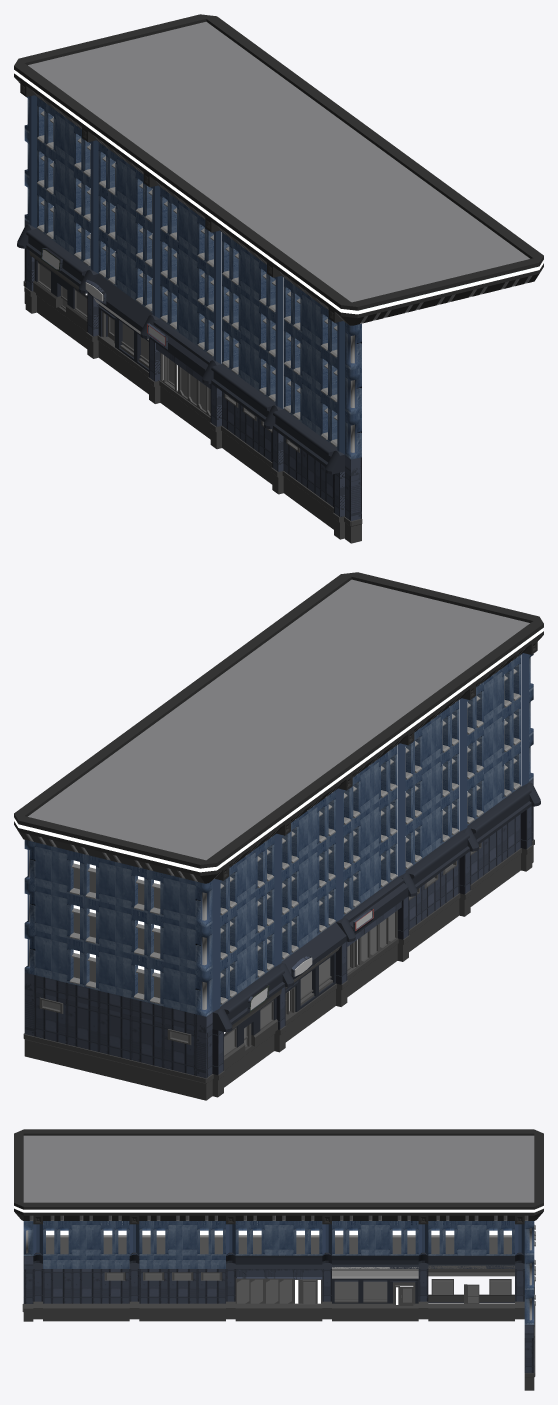
The model's file is BLOCK4.1.fbx.
3 views of the same model, one above another, from view 1: azimuth 30°, elevation 25°; view 2: azimuth 150°, elevation 25°; view 3: azimuth 270°, elevation 25° (orthographic). The views are drawn at different scales.
Visible parts, largest first — view 1: Plane.302, Plane.289, Plane.363, Plane.286, Plane.551, Plane.549, Plane.550, Plane.547, Plane.548, Plane.406, Plane.518, Plane.315 (+10 smaller); view 2: Plane.302, Plane.289, Plane.363, Plane.286, Plane.418, Plane.414, Plane.415, Plane.420, Plane.422, Plane.316, Plane.523, Plane.521 (+20 smaller); view 3: Plane.302, Plane.363, Plane.304, Plane.275, Plane.303, Plane.320, Plane.273, Plane.343, Plane.388, Plane.389, Plane.295, Plane.298 (+62 smaller).
Part boxes in pixels (x1,y1,x2,y2): Plane.302: (28, 21, 529, 302); Plane.289: (24, 130, 361, 414); Plane.363: (24, 175, 361, 459); Plane.286: (24, 95, 361, 370); Plane.551: (491, 261, 528, 291); Plane.549: (427, 276, 464, 307); Plane.550: (459, 268, 496, 299); Plane.547: (363, 292, 400, 322); Plane.548: (395, 284, 432, 315); Plane.406: (345, 472, 361, 521); Plane.518: (334, 298, 368, 325); Plane.315: (29, 250, 52, 304); Plane.302: (28, 579, 529, 860); Plane.289: (24, 689, 533, 971); Plane.363: (24, 734, 533, 1016); Plane.286: (24, 653, 533, 927); Plane.418: (99, 1007, 131, 1059); Plane.414: (131, 1015, 163, 1067); Plane.415: (163, 1023, 195, 1075); Plane.420: (35, 992, 67, 1044); Plane.422: (67, 1000, 99, 1051); Plane.316: (195, 1029, 212, 1078); Plane.523: (29, 818, 66, 849); Plane.521: (93, 834, 131, 865); Plane.302: (23, 1135, 534, 1202); Plane.363: (23, 1221, 535, 1324); Plane.304: (389, 1267, 418, 1305); Plane.275: (293, 1269, 322, 1304); Plane.303: (361, 1267, 389, 1303); Plane.320: (332, 1267, 360, 1303); Plane.273: (264, 1269, 293, 1303); Plane.343: (235, 1269, 264, 1303); Plane.388: (71, 1269, 100, 1303); Plane.389: (100, 1269, 129, 1303); Plane.295: (139, 1269, 168, 1303); Plane.298: (197, 1269, 225, 1303).
Size of the model in its own units: 1948 by 2155 by 5500.
